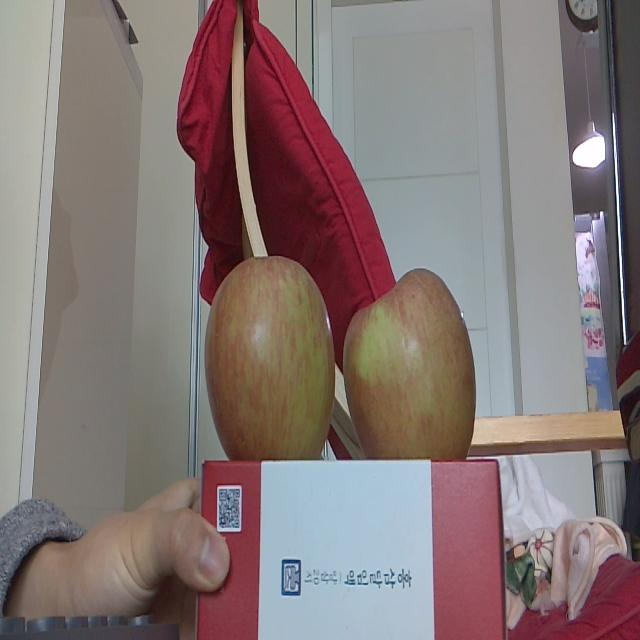apple: (206, 253, 335, 458), (342, 269, 478, 456)
